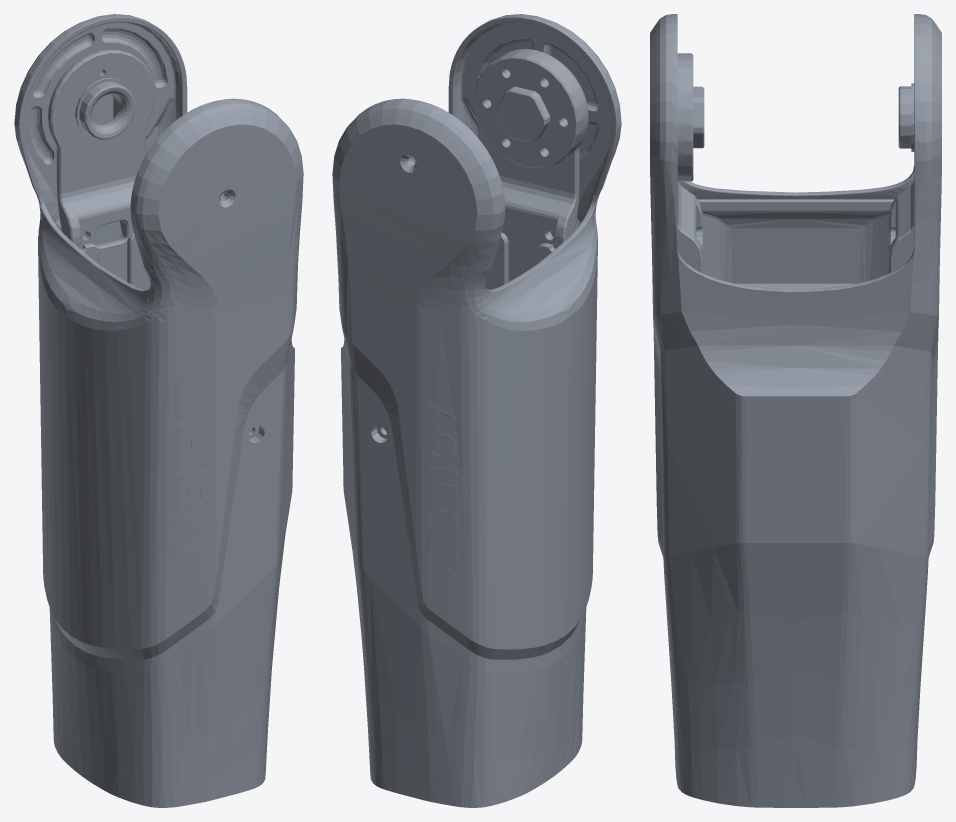
3 views of the same model, side by side, from view 1: azimuth 30°, elevation 25°; view 2: azimuth 150°, elevation 25°; view 3: azimuth 270°, elevation 25° (orthographic). The views are drawn at different scales.
Bounding box in the file's own units: 0.0799 × 0.2615 × 0.0931.
